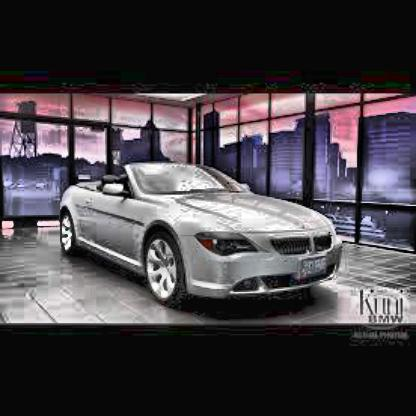BMW 6 Series Convertible 2007: (53, 154, 352, 319)
